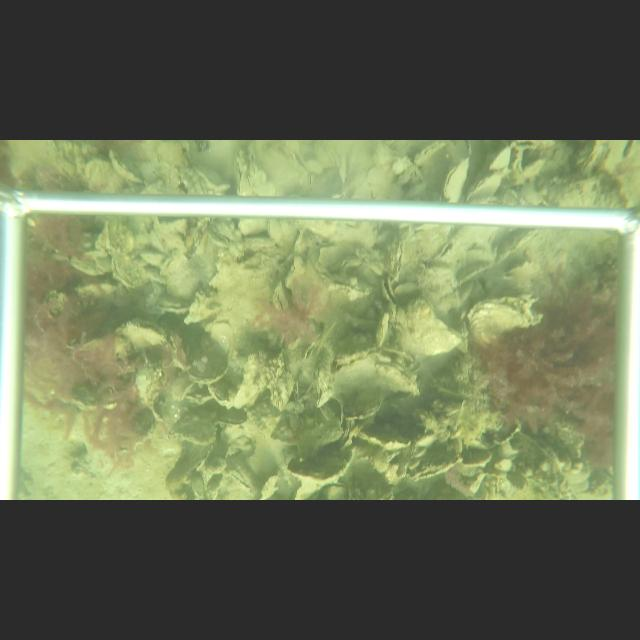Oyster-Closed: (395, 296, 463, 359), (468, 299, 540, 348), (168, 402, 248, 446), (496, 230, 546, 264), (115, 318, 167, 348), (440, 155, 472, 203), (107, 146, 146, 183), (387, 228, 410, 283), (464, 172, 504, 203), (108, 257, 145, 289), (234, 147, 247, 195), (485, 147, 511, 170), (206, 383, 231, 404), (273, 281, 290, 310), (102, 216, 116, 251), (377, 313, 391, 347), (266, 219, 283, 243), (245, 174, 254, 192)
Oyster-Open: (404, 453, 463, 482), (433, 241, 460, 263), (382, 278, 398, 306)
